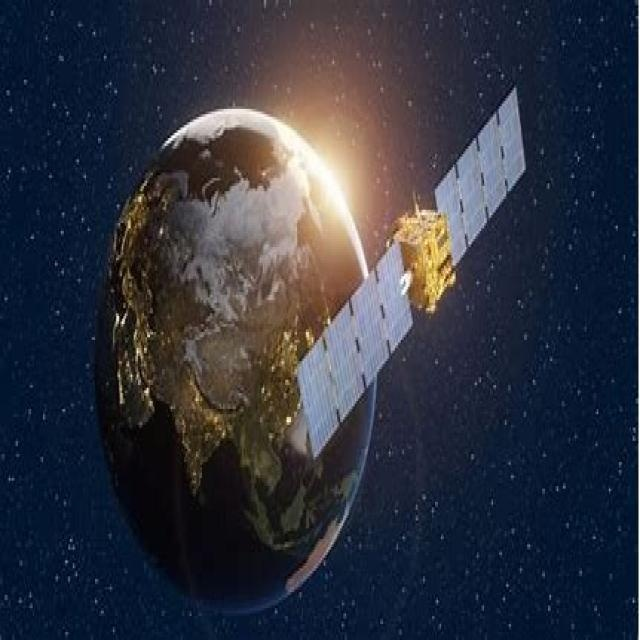medium_debris: (296, 81, 535, 462)
